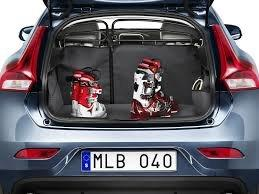license-plates: (82, 152, 178, 172)
